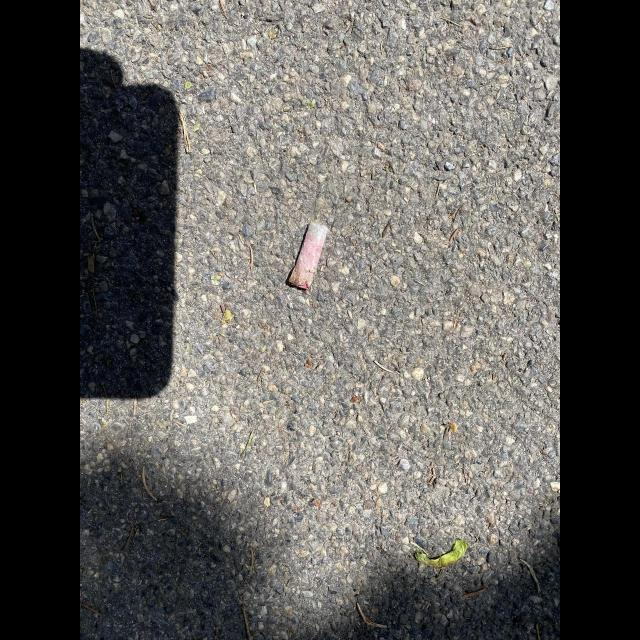cigarette: (287, 220, 330, 290)
